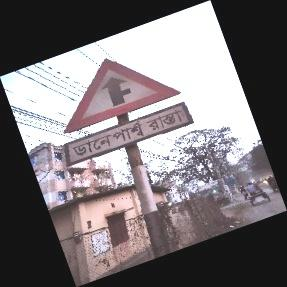Side-road-right: (62, 58, 188, 164)
